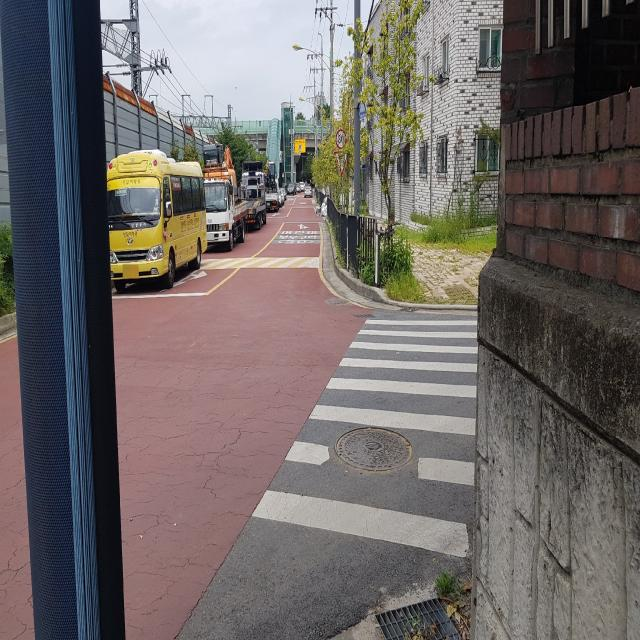횡단보도: (249, 314, 480, 560)
